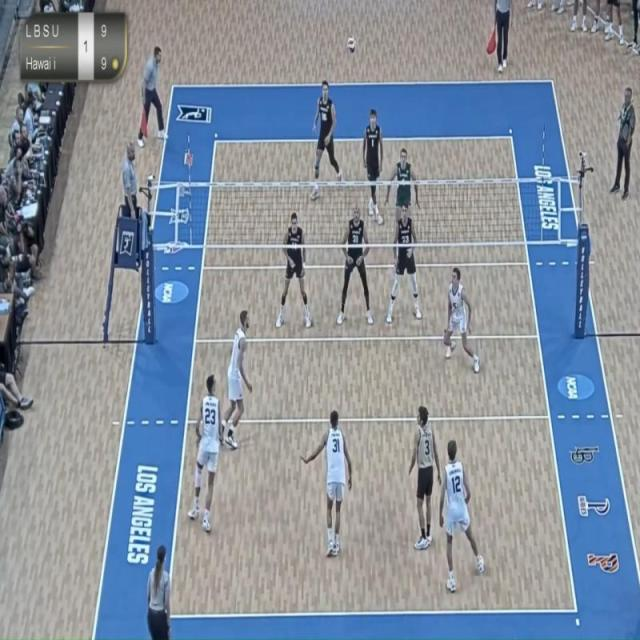volleyball: (344, 32, 358, 56)
